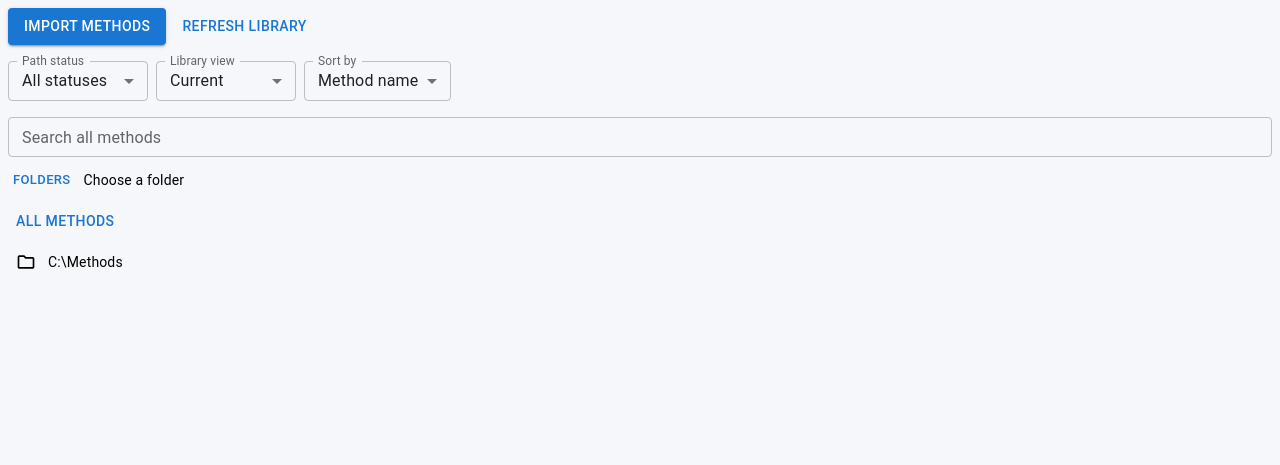
preserves filter and existing rows after a refresh failure
Click the button "All methods" at (65, 222), box [8, 203, 122, 240]
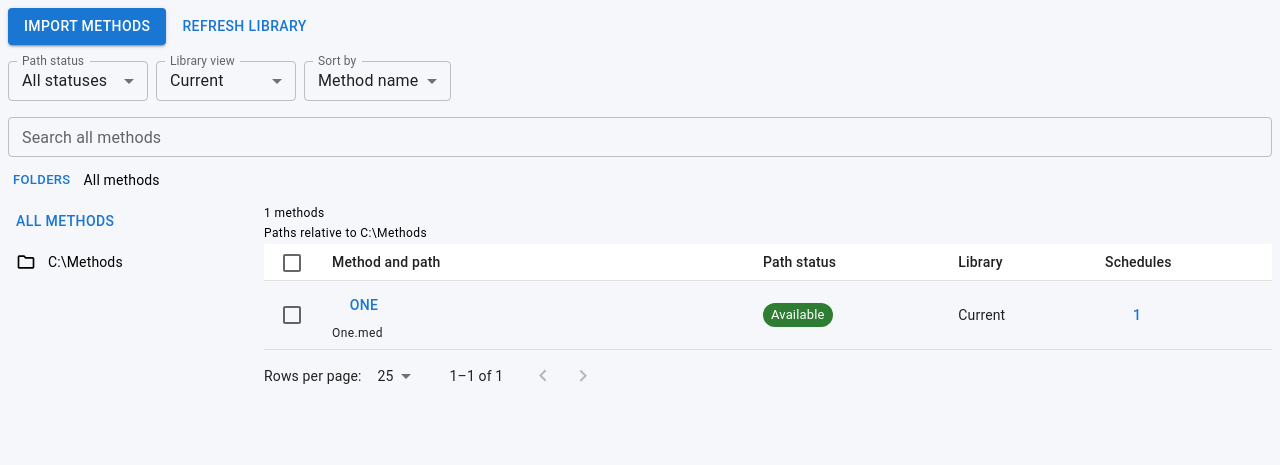
expect the button "One" is shown: met, box [332, 287, 396, 324]
Type "One" into the field labelled "Search all methods" at (640, 136), box [8, 116, 1272, 156]
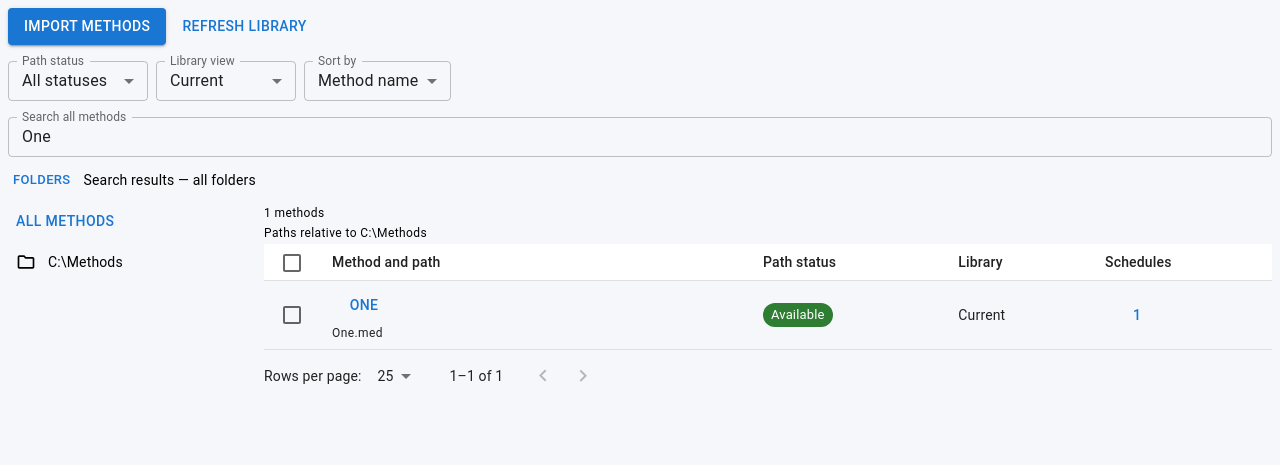
Click the button "Refresh library" at (245, 26), box [174, 8, 315, 44]
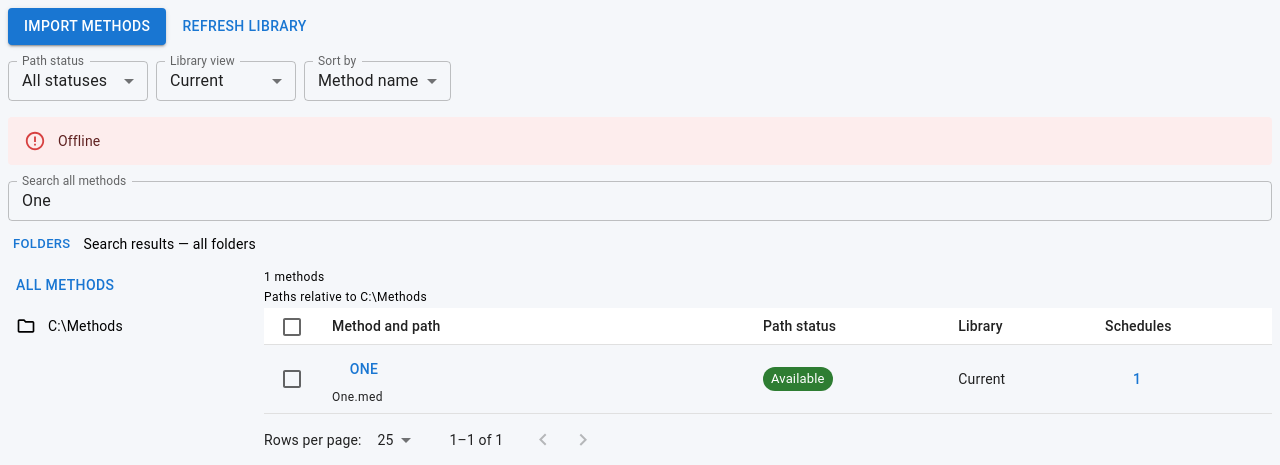
expect the button "One" is shown: met, box [332, 351, 396, 388]
expect the text "Offline" is shown: met, box [58, 132, 100, 148]
